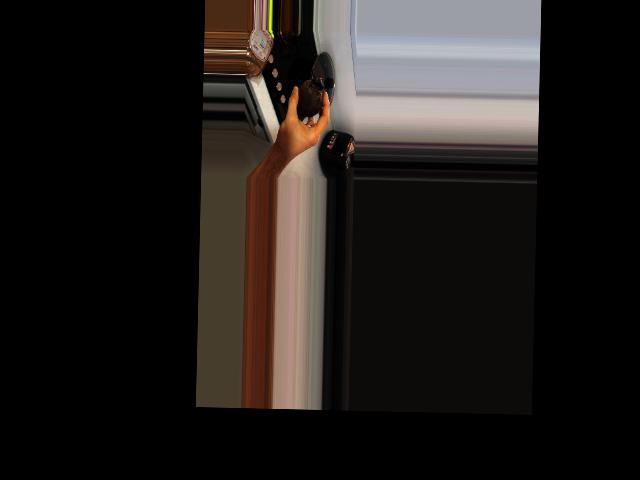beet: (297, 76, 323, 119)
